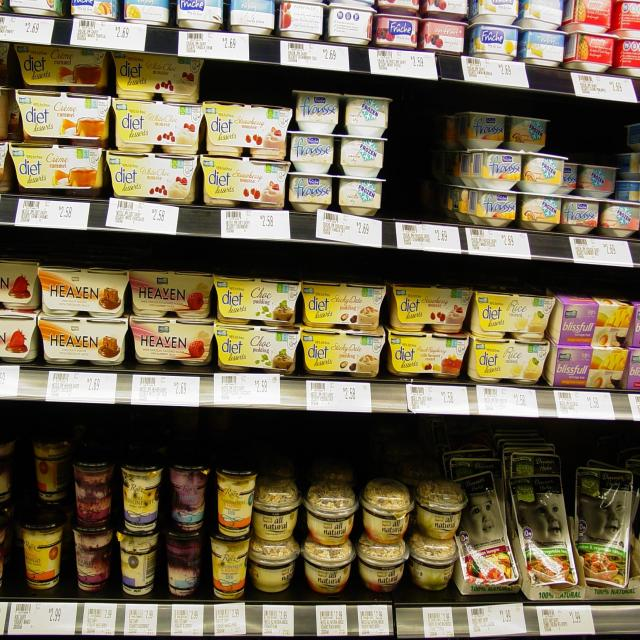empty_space: (399, 91, 445, 220)
